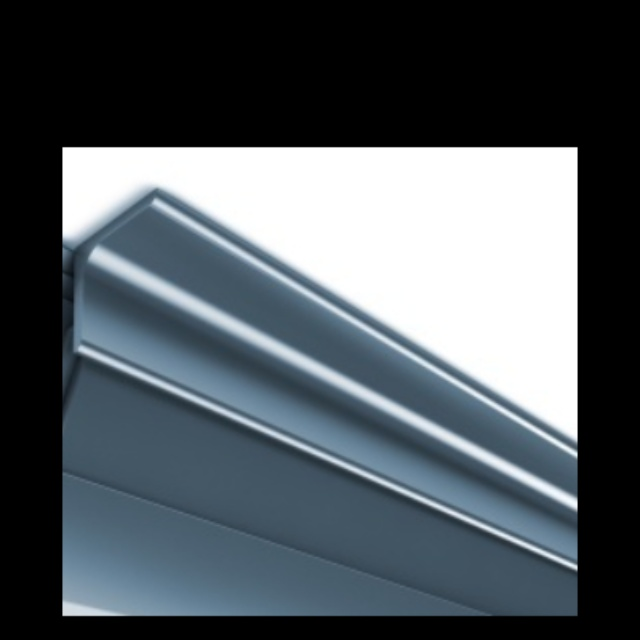Angle: (78, 197, 151, 343)
